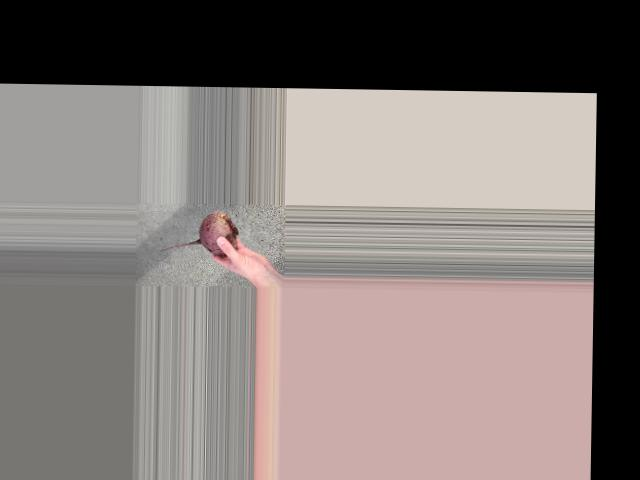beet: (160, 210, 238, 254)
